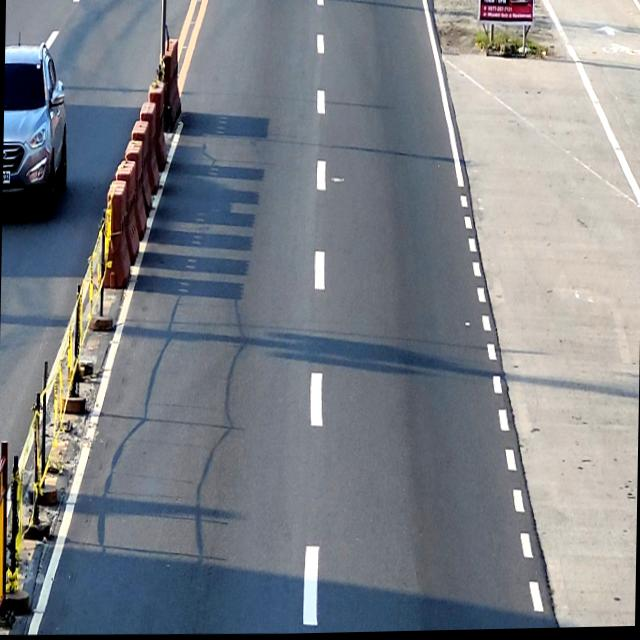Car: (2, 42, 68, 215)
License-Plate: (2, 170, 10, 183)
